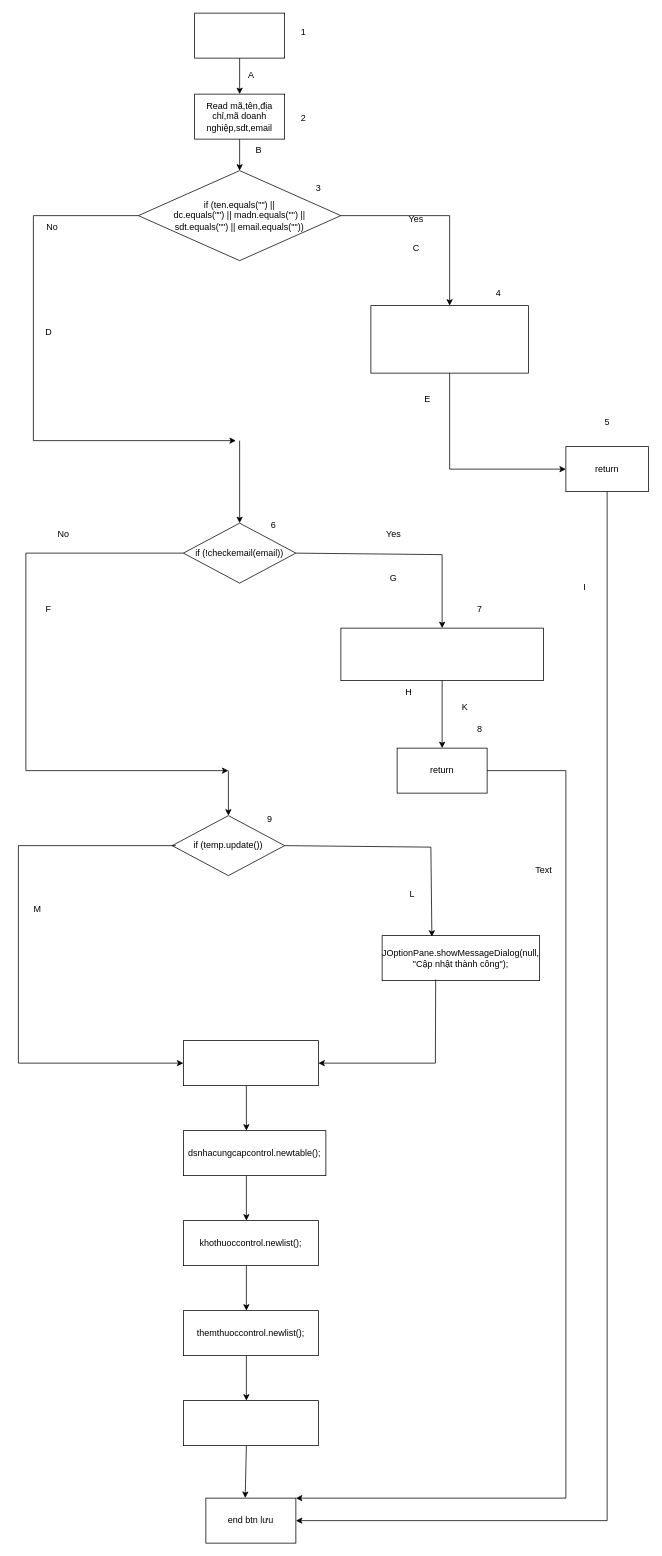
The diagram is 662 pixels wide and 1556 high, and some of its shapes have lost their labels. Each missing label, with the centre of its shape:
click vào lưu nhà cung cấp: the point at 239,35
dsnhaphangcontrol.newcombo();: the point at 250,1423
JOptionPane.showMessageDialog(null, "Email nhập không đúng định dạng ");: the point at 441,654
JOptionPane.showMessageDialog(null, "Vui lòng nhập dủ thông tin");: the point at 449,339
Mainframe.listcc.load();: the point at 250,1063
